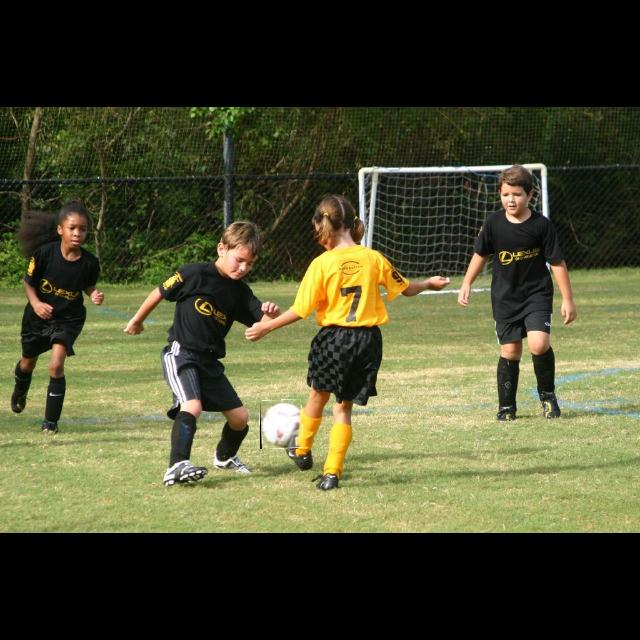Football: (260, 399, 302, 449)
